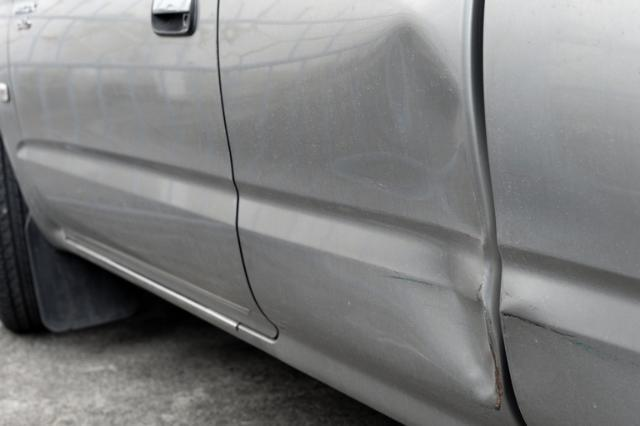Door: (237, 23, 503, 295)
